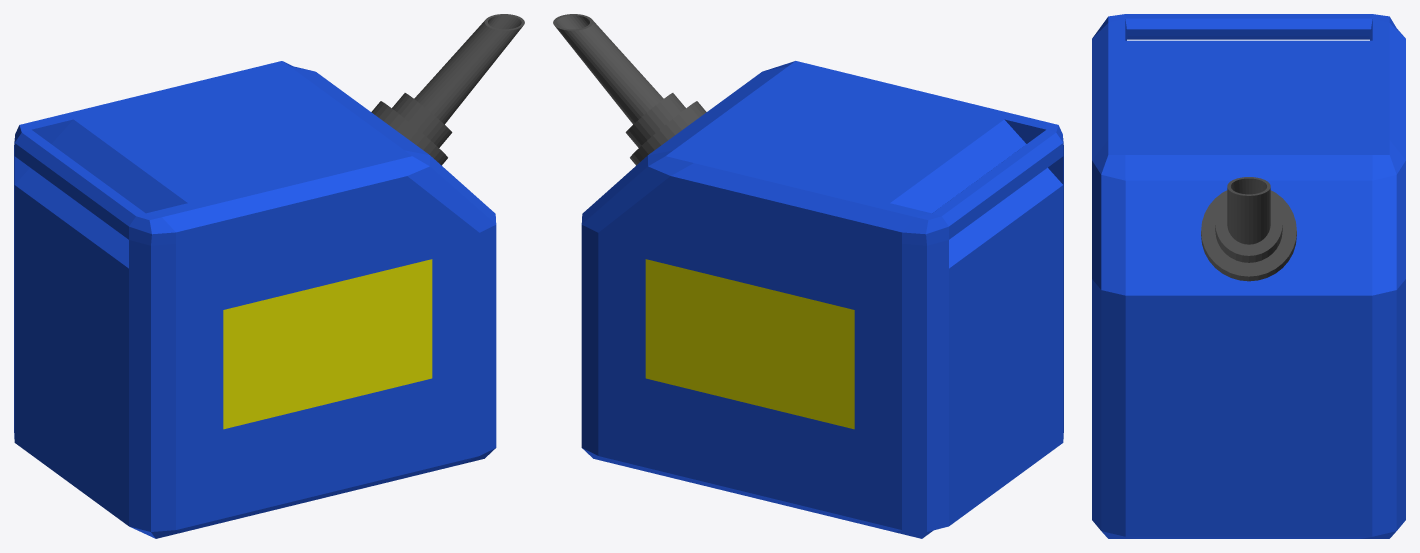
File: kerosene can.fbx
3 renders of one model, left to right at view 1: azimuth 30°, elevation 25°; view 2: azimuth 150°, elevation 25°; view 3: azimuth 270°, elevation 25°, orthographic. The views are drawn at different scales.
Parts seen in each view (by area): view 1: Cube; view 2: Cube; view 3: Cube.
Boxes of the visible parts, bbox=[...] form: Cube: bbox=[14, 14, 524, 538]; Cube: bbox=[553, 14, 1063, 538]; Cube: bbox=[1092, 14, 1405, 538].
Size of the model in its own units: 399 by 312 by 223.
